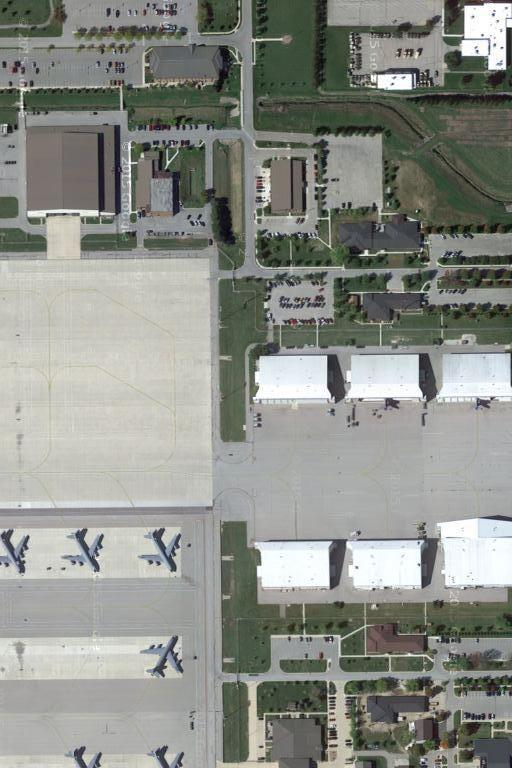KC-135: (134, 526, 184, 576), (138, 631, 186, 681), (61, 526, 107, 576), (1, 528, 32, 580)
